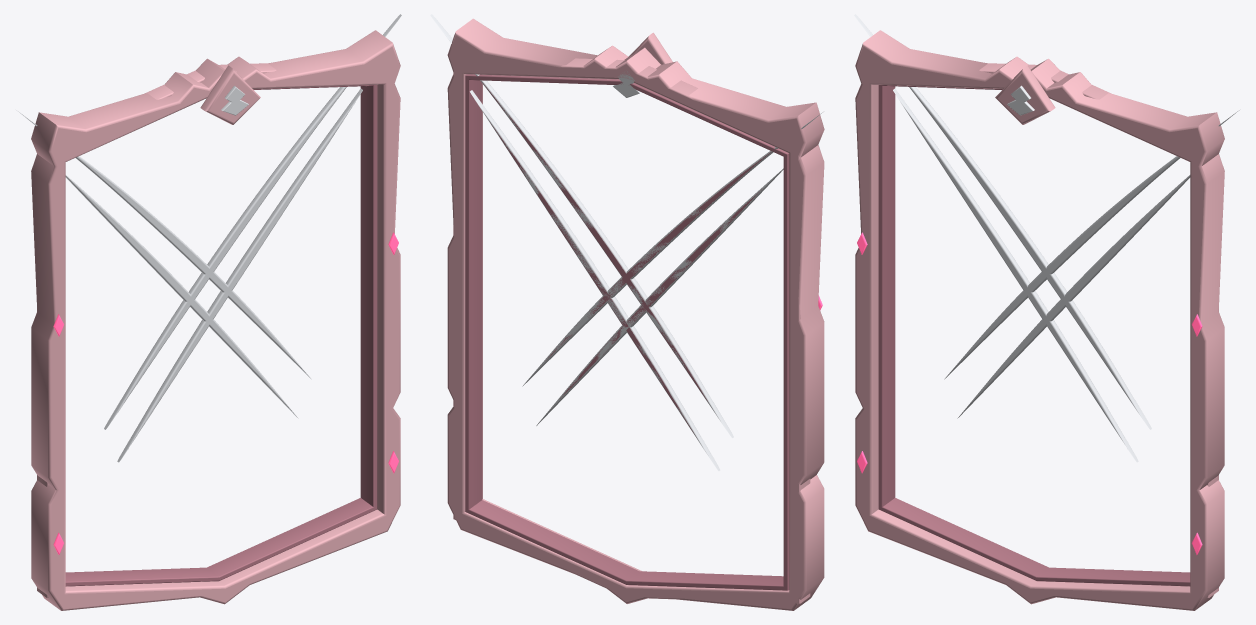
Rendered from valkyrie.glb.
The picture shows the model from 3 angles, left to right: view 1: azimuth 30°, elevation 25°; view 2: azimuth 150°, elevation 25°; view 3: azimuth 330°, elevation 25°; orthographic projection.
Parts seen in each view (by area): view 1: L2_Bezel, L2_InnerRing, L2_Wings, L2_Crest, L1_Ring, L2_Gems; view 2: L2_Bezel, L2_InnerRing, L2_Wings, L1_Ring, L1_Wings, L2_Crest; view 3: L2_Bezel, L2_InnerRing, L2_Wings, L2_Crest, L1_Ring, L2_Gems.
Part boxes in pixels (bbox=[...]): L2_Bezel: bbox=[31, 30, 400, 610]; L2_InnerRing: bbox=[65, 85, 377, 586]; L2_Wings: bbox=[16, 14, 401, 462]; L2_Crest: bbox=[200, 65, 260, 124]; L1_Ring: bbox=[37, 63, 276, 597]; L2_Gems: bbox=[53, 232, 398, 554]; L2_Bezel: bbox=[447, 18, 824, 610]; L2_InnerRing: bbox=[465, 74, 789, 590]; L2_Wings: bbox=[430, 14, 822, 470]; L1_Ring: bbox=[453, 58, 810, 603]; L1_Wings: bbox=[475, 73, 777, 434]; L2_Crest: bbox=[629, 32, 672, 64]; L2_Bezel: bbox=[855, 30, 1224, 610]; L2_InnerRing: bbox=[878, 85, 1190, 586]; L2_Wings: bbox=[854, 14, 1239, 462]; L2_Crest: bbox=[995, 65, 1055, 124]; L1_Ring: bbox=[979, 63, 1218, 597]; L2_Gems: bbox=[857, 232, 1202, 554].
Size of the model in its own units: 4.44 by 5.96 by 0.59.
